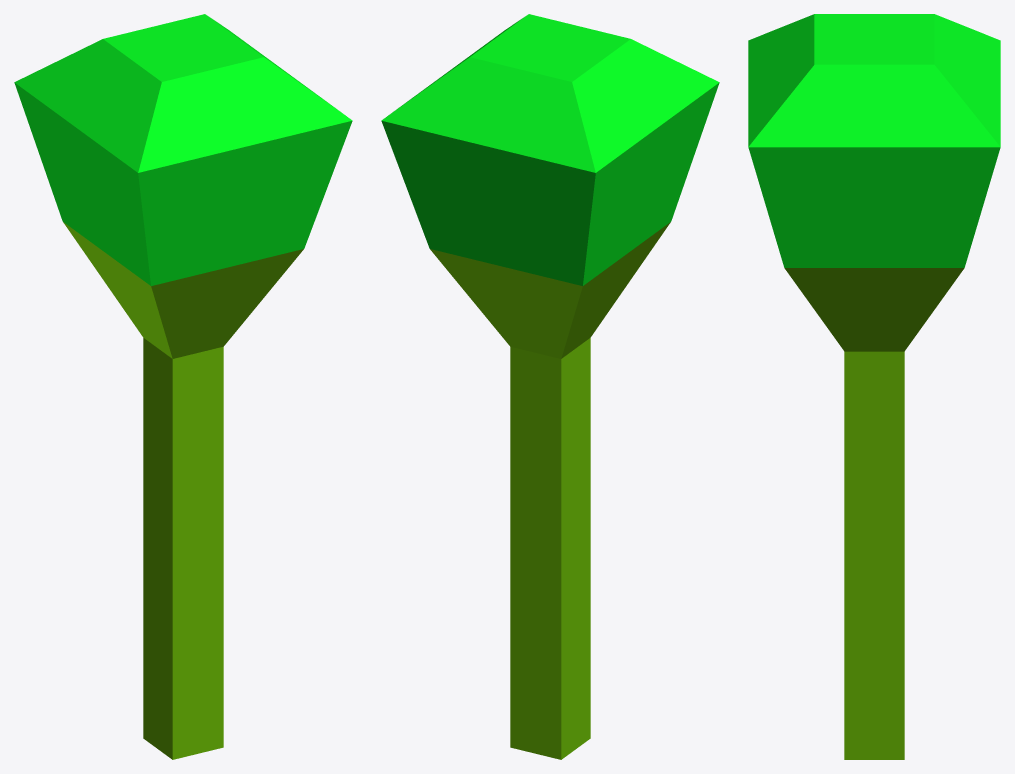
The model's file is Sprout_G.fbx.
3 renders of one model, left to right at view 1: azimuth 30°, elevation 25°; view 2: azimuth 150°, elevation 25°; view 3: azimuth 270°, elevation 25°, orthographic.
Parts seen in each view (by area): view 1: Flower_01_Bud; view 2: Flower_01_Bud; view 3: Flower_01_Bud.
Part boxes in pixels (x1,y1,x2,y2): Flower_01_Bud: [14, 14, 352, 759]; Flower_01_Bud: [381, 14, 719, 759]; Flower_01_Bud: [748, 14, 1000, 759].
Size of the model in its own units: 5.04 by 15.6 by 5.04.
1 material, 1 textured.
